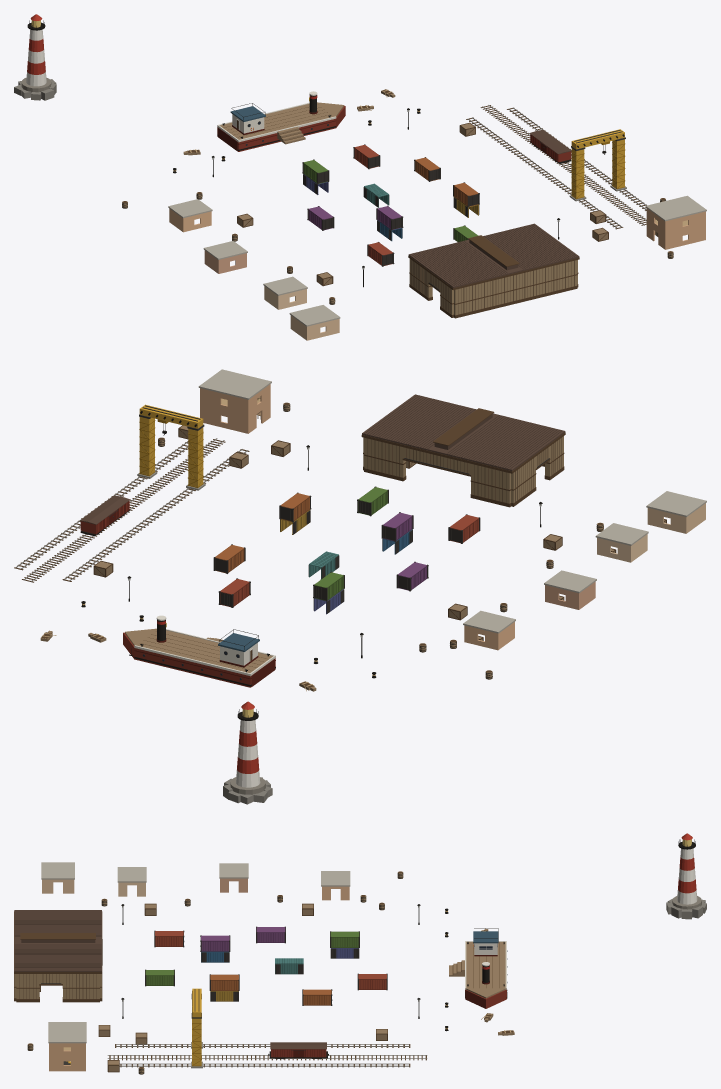
The model's file is docas.glb.
The picture shows the model from 3 angles, top to bottom: view 1: azimuth 30°, elevation 25°; view 2: azimuth 150°, elevation 25°; view 3: azimuth 270°, elevation 25°; orthographic projection. The views are drawn at different scales.
Visible parts, largest first — view 1: map_shed_roof.001, map_wood_dark.013, map_shed.001, map_wood.013, map_stone.010, map_shed_roof_d.001, map_crane_yellow.006, map_hw_dcae86.001, map_shed_d.001, map_cont_door.005, map_hull.001, map_steel_l.005 (+14 smaller); view 2: map_shed_roof.001, map_wood_dark.013, map_shed.001, map_stone.010, map_wood.013, map_shed_roof_d.001, map_crane_yellow.006, map_hw_dcae86.001, map_cont_door.005, map_hull.001, map_shed_d.001, map_steel_l.005 (+14 smaller); view 3: map_shed_roof.001, map_shed_roof_d.001, map_wood_dark.013, map_wood.013, map_stone.010, map_steel_l.005, map_shed.001, map_hw_dcae86.001, map_cont_4.004, map_cont_2.003, map_cont_door.005, map_hull.001 (+12 smaller).
Part boxes in pixels (x1,y1,x2,y2): map_shed_roof.001: (408,129,579,288); map_wood_dark.013: (123,89,672,318); map_shed.001: (409,259,577,315); map_wood.013: (122,89,673,304); map_stone.010: (168,195,706,326); map_shed_roof_d.001: (411,224,576,285); map_crane_yellow.006: (571,129,624,198); map_hw_dcae86.001: (646,208,705,249); map_shed_d.001: (411,260,574,314); map_cont_door.005: (302,148,479,265); map_hull.001: (217,105,571,162); map_steel_l.005: (468,105,646,228); map_shed_roof.001: (79,394,565,524); map_wood_dark.013: (14,398,666,687); map_shed.001: (363,436,563,503); map_stone.010: (198,369,706,633); map_wood.013: (40,396,665,691); map_shed_roof_d.001: (364,395,562,468); map_crane_yellow.006: (139,404,203,487); map_hw_dcae86.001: (200,384,270,433); map_cont_door.005: (213,491,480,613); map_hull.001: (80,501,275,687); map_shed_d.001: (367,438,561,502); map_steel_l.005: (16,438,247,581); map_shed_roof.001: (14,910,326,1049); map_shed_roof_d.001: (14,910,101,969); map_wood_dark.013: (14,871,513,1072); map_wood.013: (27,871,514,1074); map_stone.010: (41,862,350,1043); map_steel_l.005: (107,1044,427,1066); map_shed.001: (14,974,101,998); map_hw_dcae86.001: (49,1043,85,1071); map_cont_4.004: (201,927,285,950); map_cont_2.003: (145,932,359,985); map_cont_door.005: (145,928,387,1004); map_hull.001: (271,989,506,1057).
Size of the model in its own units: 101 by 18.48 by 150.
